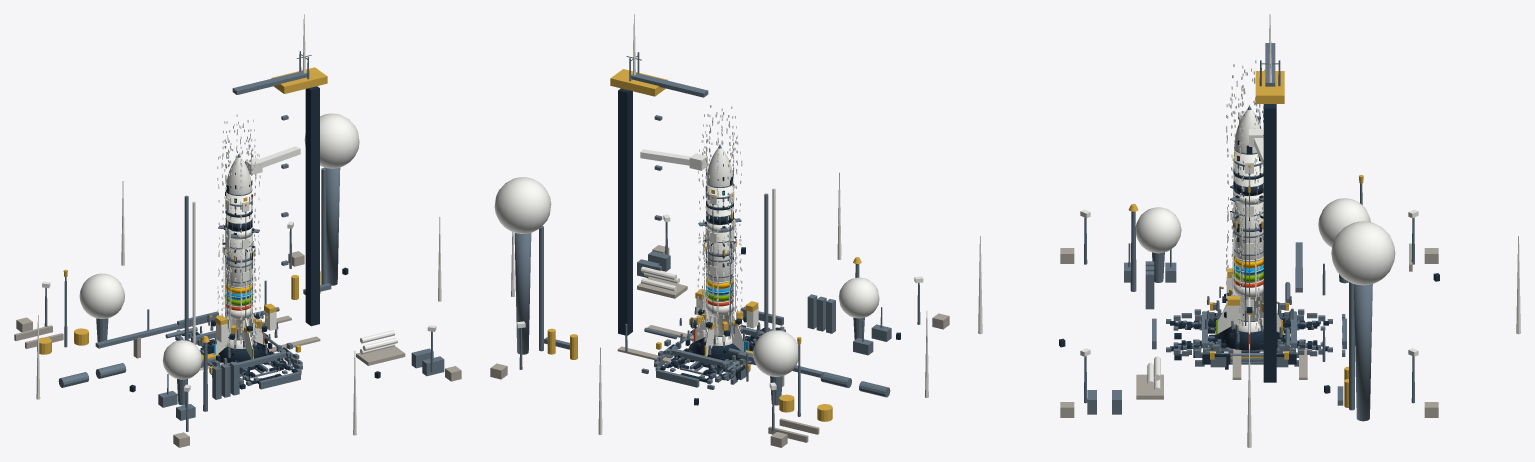
Rendered from rocket-kit-pbYb232E.glb.
The picture shows the model from 3 angles, left to right: view 1: azimuth 30°, elevation 25°; view 2: azimuth 150°, elevation 25°; view 3: azimuth 270°, elevation 25°; orthographic projection. The views are drawn at different scales.
Visible parts, largest first — view 1: Tower_ElevatorShaft, WaterTower_Sphere, Rocket_Core_Barrel, Cryo_LH2_Sphere, WaterTower_Stem, Cryo_LOX_Sphere, Tower_LH2_Riser, Tower_Crane_Cab, Rocket_Ogive_Nose, WaterTower_Downcomer, Tower_Crane_Boom, Pad_CryoPipeBridge_Main (+3 smaller); view 2: Tower_ElevatorShaft, WaterTower_Sphere, Rocket_Core_Barrel, Cryo_LH2_Sphere, WaterTower_Stem, Cryo_LOX_Sphere, Tower_Crane_Cab, Rocket_Ogive_Nose, Tower_LH2_Riser, Tower_Crane_Boom, WaterTower_Downcomer, Tower_LOX_Riser (+3 smaller); view 3: Tower_ElevatorShaft, WaterTower_Sphere, Rocket_Core_Barrel, WaterTower_Stem, Cryo_LOX_Sphere, Cryo_LH2_Sphere, Tower_Crane_Cab, Pad_FlameDeflector_Cone, WaterTower_Downcomer, Rocket_Ogive_Nose, Pad_GN2_Skid.
Part boxes in pixels (bbox=[...]): Tower_ElevatorShaft: bbox=[305, 86, 319, 326]; WaterTower_Sphere: bbox=[304, 113, 359, 168]; Rocket_Core_Barrel: bbox=[226, 192, 251, 338]; Cryo_LH2_Sphere: bbox=[79, 273, 124, 318]; WaterTower_Stem: bbox=[324, 167, 340, 285]; Cryo_LOX_Sphere: bbox=[162, 340, 202, 379]; Tower_LH2_Riser: bbox=[184, 195, 188, 340]; Tower_Crane_Cab: bbox=[271, 67, 327, 93]; Rocket_Ogive_Nose: bbox=[226, 157, 251, 194]; WaterTower_Downcomer: bbox=[321, 168, 326, 284]; Tower_Crane_Boom: bbox=[232, 71, 307, 94]; Pad_CryoPipeBridge_Main: bbox=[95, 323, 178, 348]; Tower_ElevatorShaft: bbox=[618, 88, 632, 335]; WaterTower_Sphere: bbox=[494, 177, 551, 233]; Rocket_Core_Barrel: bbox=[706, 184, 733, 335]; Cryo_LH2_Sphere: bbox=[753, 330, 798, 376]; WaterTower_Stem: bbox=[514, 233, 531, 354]; Cryo_LOX_Sphere: bbox=[838, 277, 879, 318]; Tower_Crane_Cab: bbox=[610, 69, 667, 96]; Rocket_Ogive_Nose: bbox=[706, 148, 733, 186]; Tower_LH2_Riser: bbox=[764, 193, 768, 333]; Tower_Crane_Boom: bbox=[631, 73, 708, 97]; WaterTower_Downcomer: bbox=[539, 226, 543, 351]; Tower_LOX_Riser: bbox=[772, 188, 775, 330]; Tower_ElevatorShaft: bbox=[1263, 104, 1276, 382]; WaterTower_Sphere: bbox=[1331, 221, 1395, 285]; Rocket_Core_Barrel: bbox=[1234, 150, 1263, 320]; WaterTower_Stem: bbox=[1354, 284, 1372, 421]; Cryo_LOX_Sphere: bbox=[1136, 207, 1181, 253]; Cryo_LH2_Sphere: bbox=[1318, 198, 1370, 247]; Tower_Crane_Cab: bbox=[1255, 71, 1284, 103]; Pad_FlameDeflector_Cone: bbox=[1214, 327, 1284, 350]; WaterTower_Downcomer: bbox=[1349, 282, 1354, 410]; Rocket_Ogive_Nose: bbox=[1234, 109, 1263, 153]; Pad_GN2_Skid: bbox=[1136, 374, 1163, 399].
Size of the model in its own units: 26.22 by 20.17 by 26.22.
